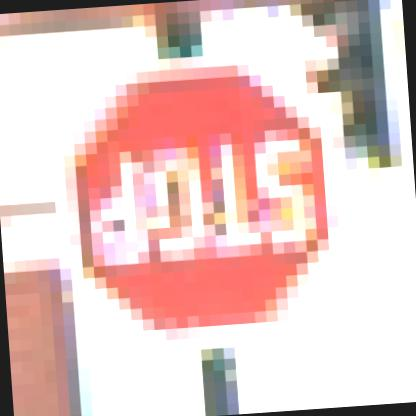stop: (46, 44, 346, 318)
